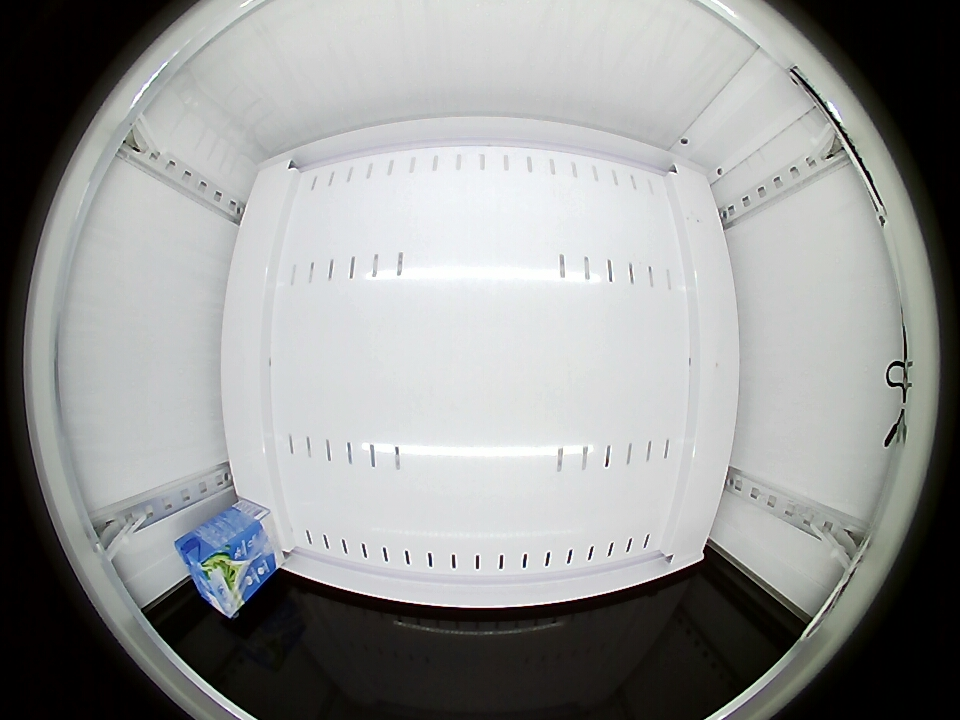weitanai: (174, 525, 254, 617)
